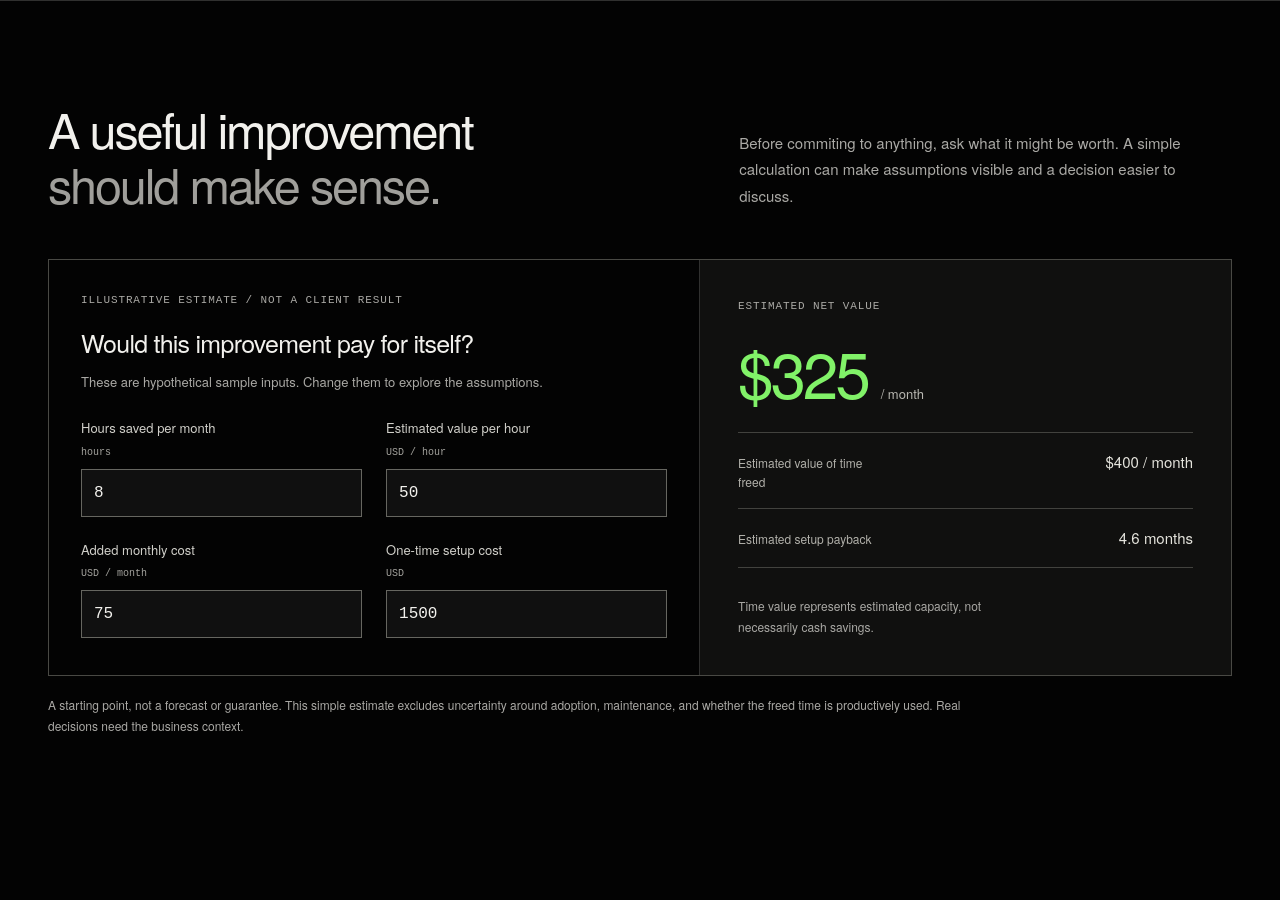
Test: illustrative calculator › presents the sample and calculates immediate and nonpositive payback
Expected: the text "$325" is shown, [738,326,868,416]
Expected: the text with test id "payback" reads "4.6 months", [1119,527,1193,548]
Replace the text in the number field labelled "One-time setup cost USD" with "0" at (526, 614), box [386,590,667,638]
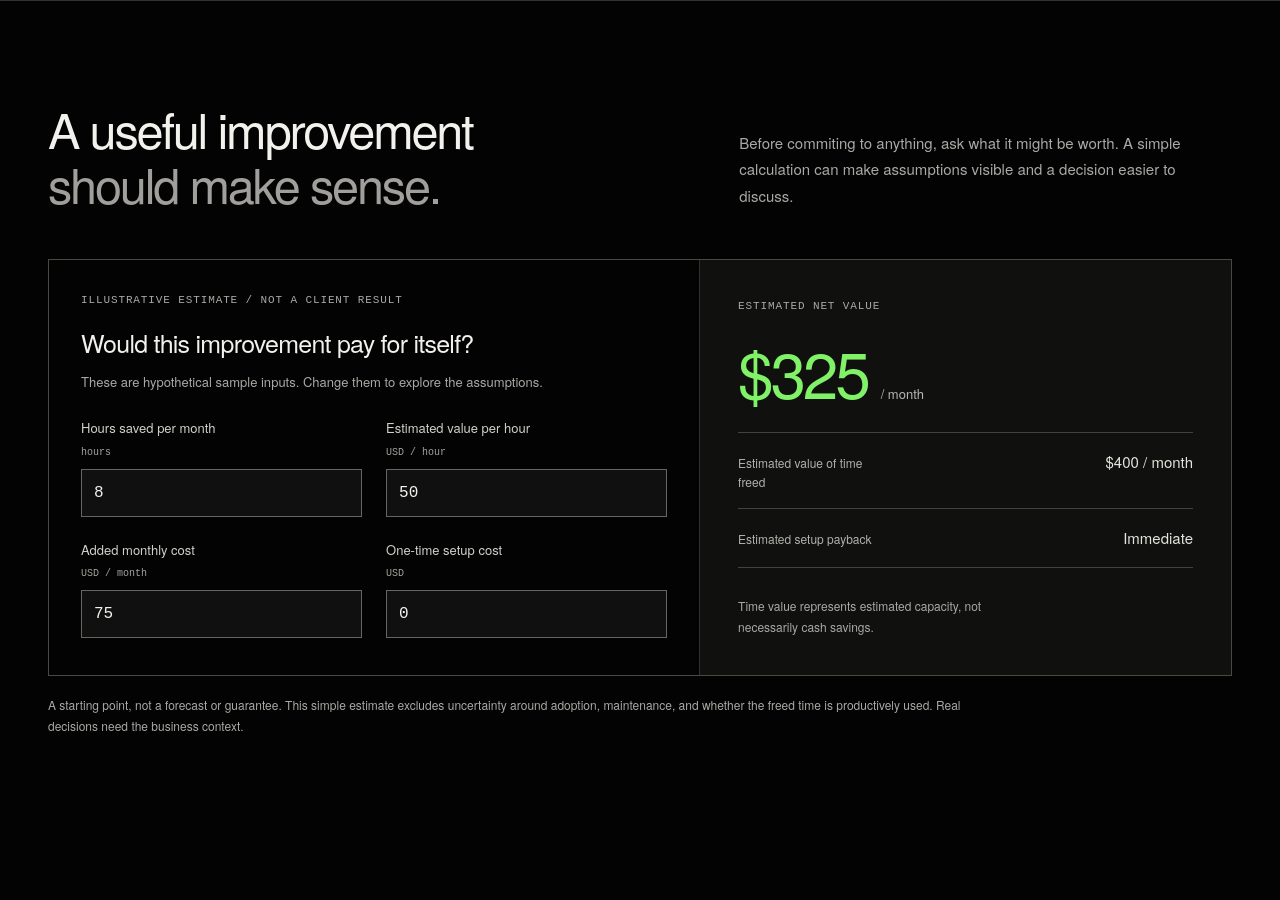
Result: the text with test id "payback" reads "Immediate" at [1123,527,1193,548]
Replace the text in the number field labelled "Added monthly cost USD / month" with "450" at (222, 614), box [81,590,362,638]
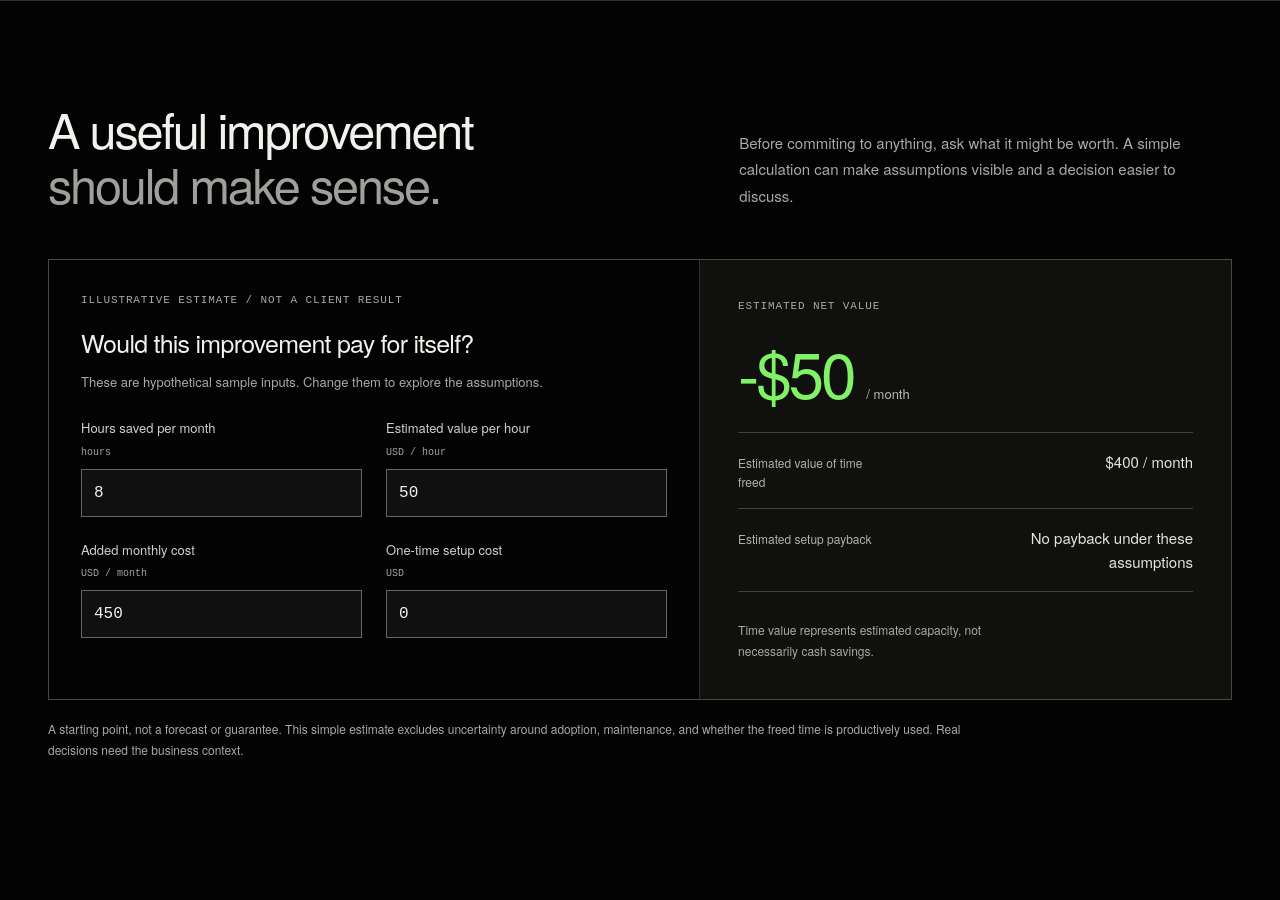
Result: the text with test id "payback" reads "No payback under these assumptions" at [1031,527,1193,572]
